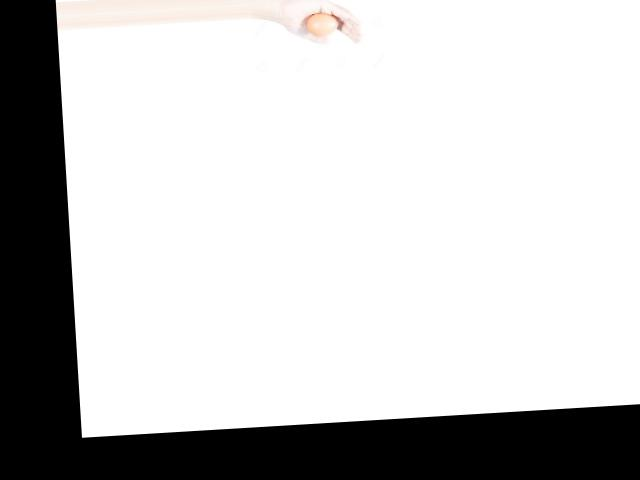egg: (306, 12, 337, 37)
